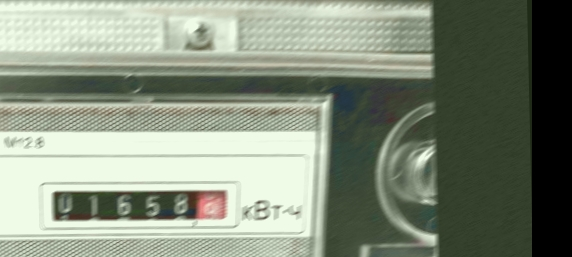0: (57, 189, 71, 211)
1: (87, 192, 98, 214)
5: (144, 191, 159, 214)
6: (115, 191, 130, 213)
8: (172, 190, 187, 212)
9: (201, 198, 215, 219)
screen: (33, 170, 246, 235)
